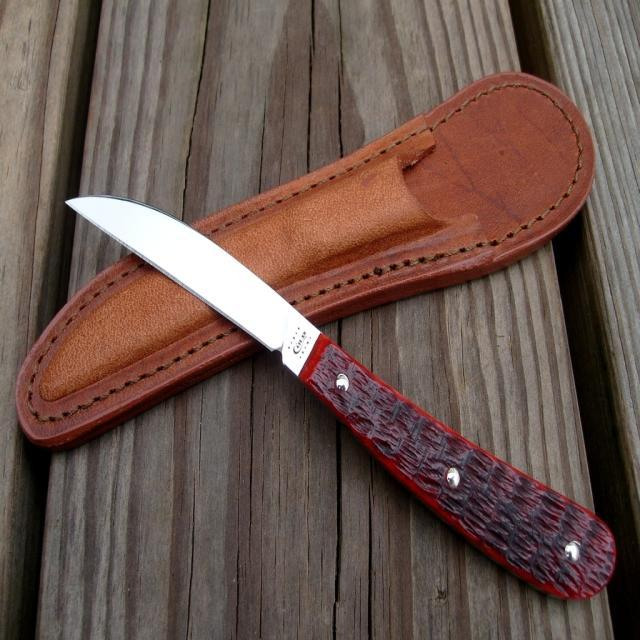Knife: (66, 196, 320, 375)
